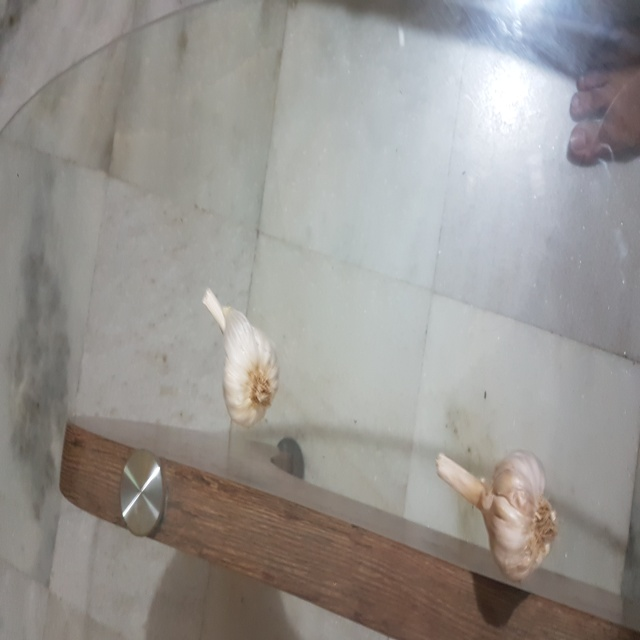garlic: (429, 447, 569, 582), (201, 290, 288, 427)
